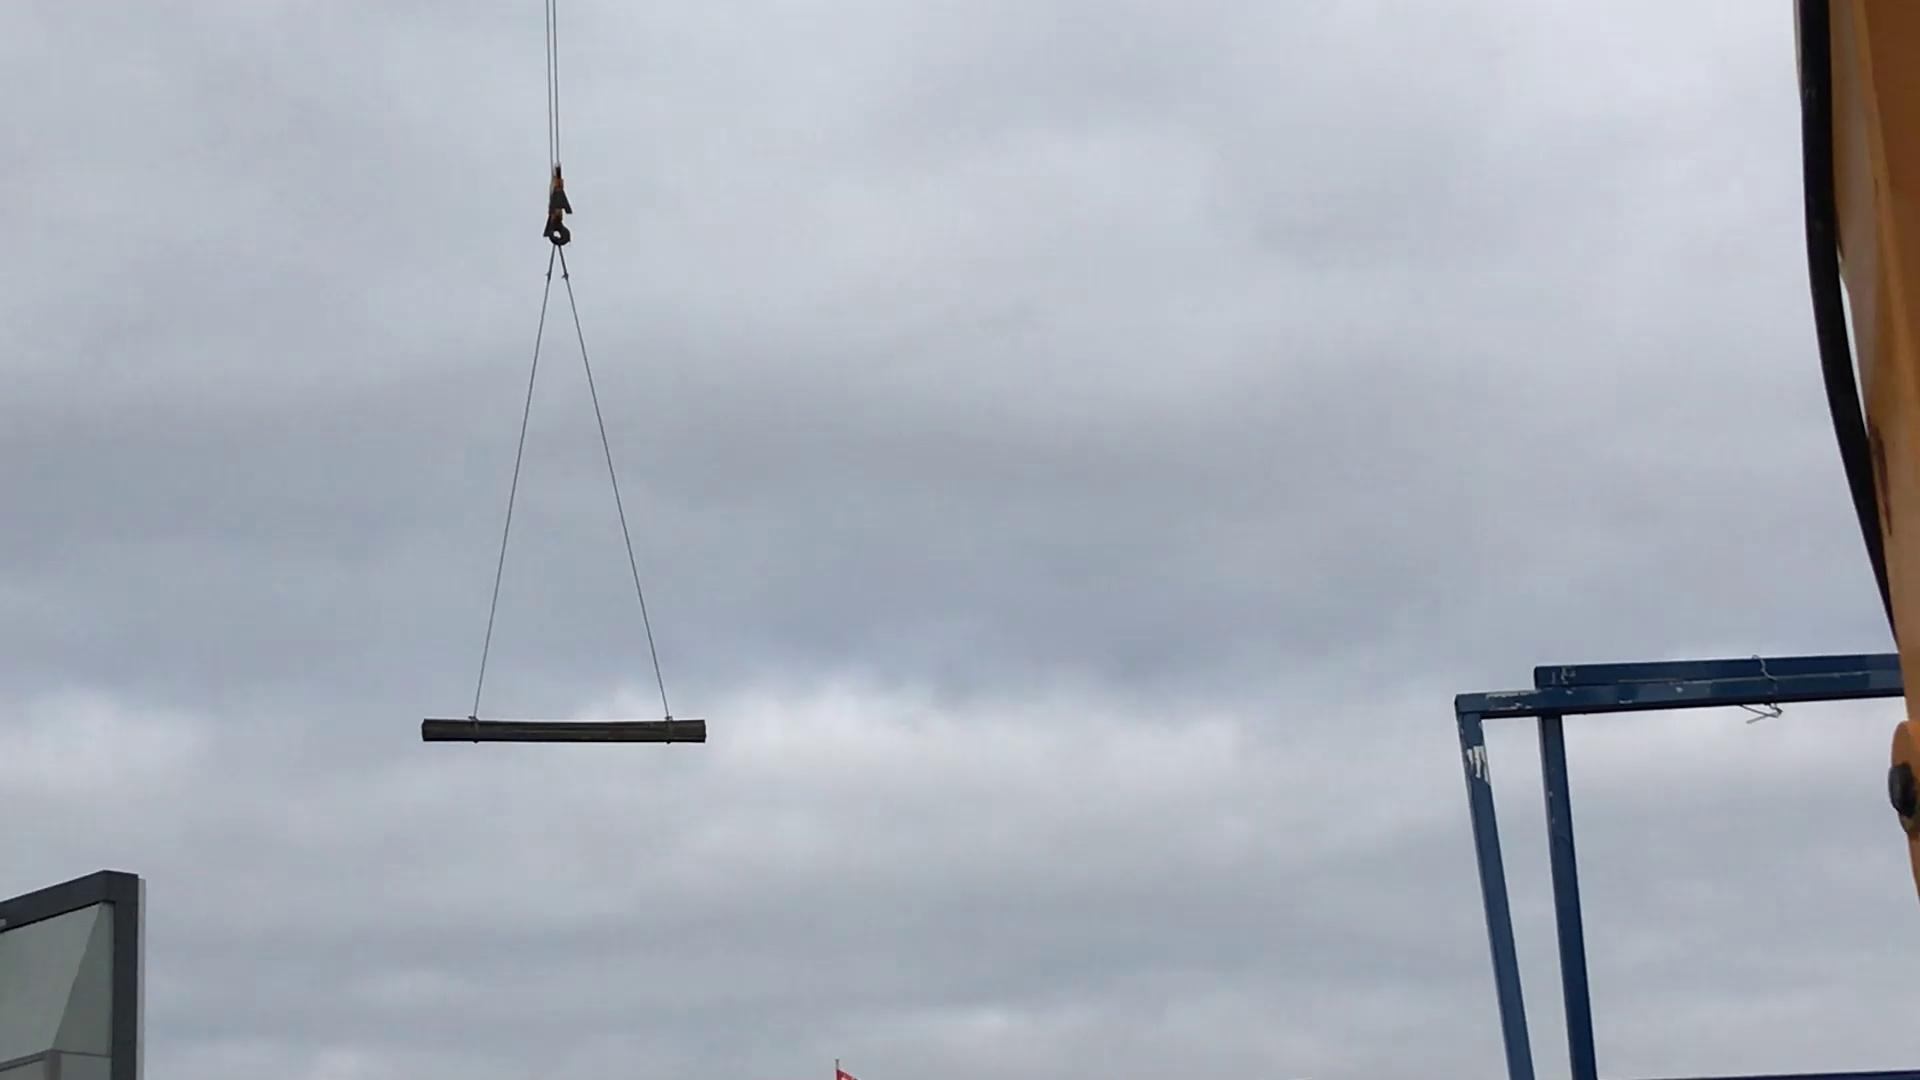rebar: (415, 708, 723, 756)
